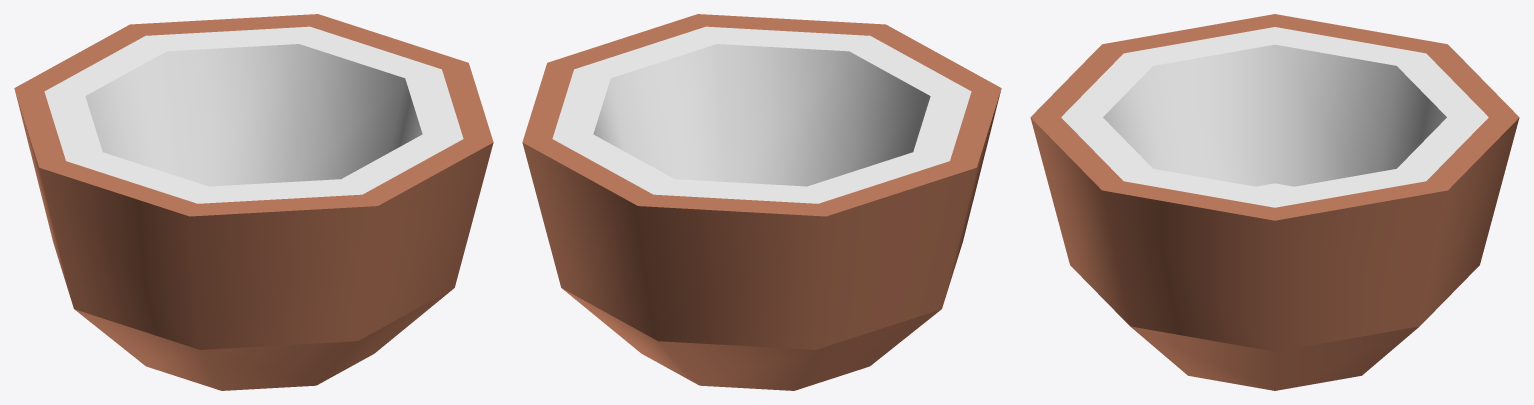
File: coconutHalf.fbx
The picture shows the model from 3 angles, left to right: view 1: azimuth 30°, elevation 25°; view 2: azimuth 150°, elevation 25°; view 3: azimuth 270°, elevation 25°; orthographic projection.
Visible parts, largest first — view 1: coconutHalf; view 2: coconutHalf; view 3: coconutHalf.
Boxes of the visible parts, left/top/right/bottom form: coconutHalf: left=14, top=14, right=493, bottom=390; coconutHalf: left=522, top=14, right=1001, bottom=390; coconutHalf: left=1030, top=14, right=1519, bottom=390.
Size of the model in its own units: 2.48 by 1.24 by 2.48.
